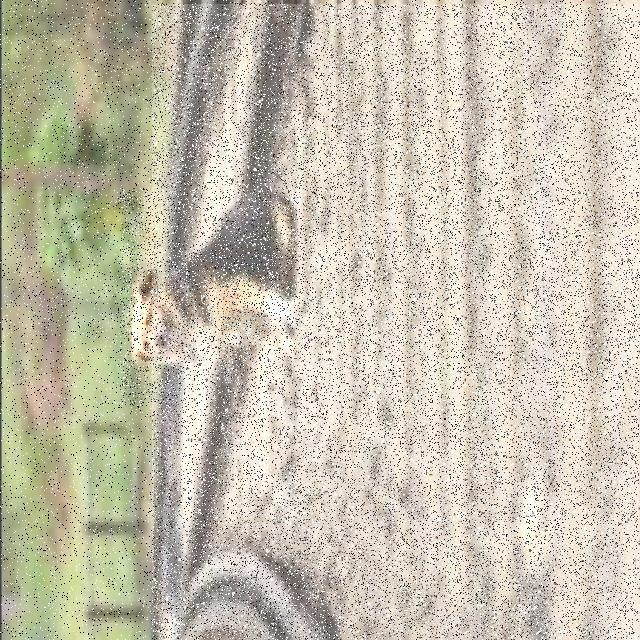rail: (153, 5, 640, 640)
